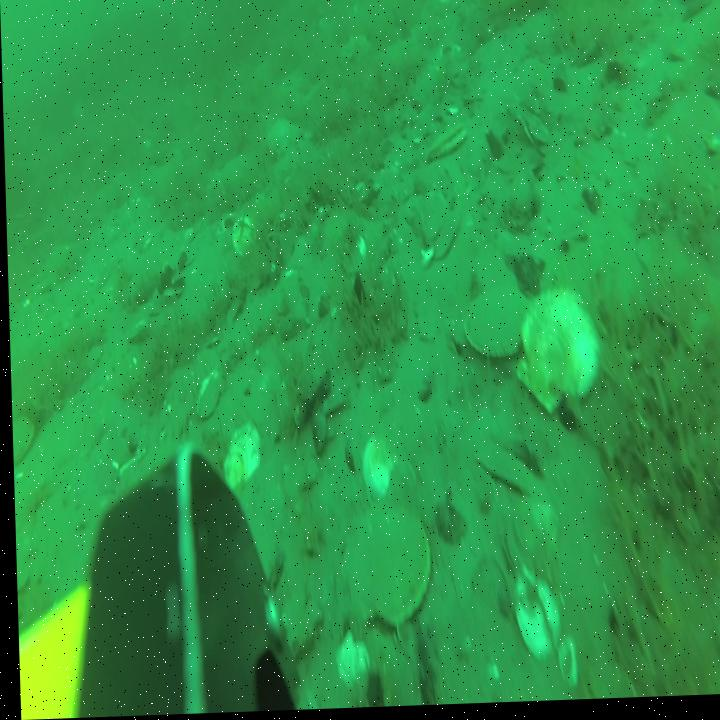scallop: (337, 507, 427, 624), (512, 298, 595, 411), (458, 286, 526, 362), (507, 573, 556, 665), (512, 497, 555, 576), (221, 423, 259, 493), (359, 431, 391, 500), (425, 119, 469, 163), (428, 208, 459, 265), (383, 457, 413, 514), (193, 368, 224, 423), (416, 192, 446, 248), (228, 218, 255, 257), (10, 413, 31, 463)
starfish: (264, 118, 302, 154), (344, 37, 370, 61)
